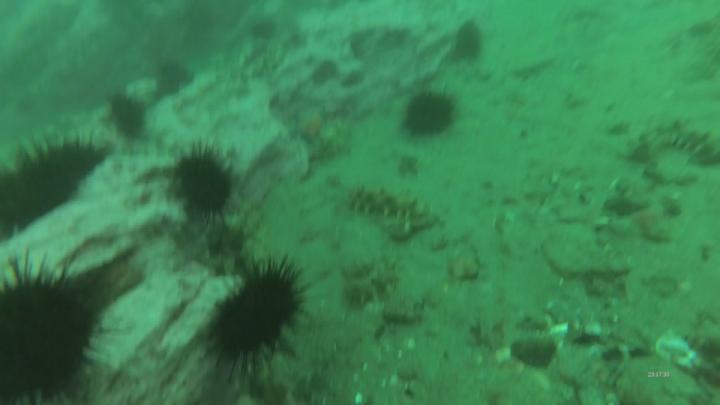echinus: (2, 254, 95, 405), (210, 261, 305, 369), (5, 134, 102, 228), (172, 145, 239, 223), (403, 86, 461, 146), (104, 88, 147, 141), (151, 57, 193, 97), (451, 16, 484, 65)
holothurian: (346, 178, 432, 227), (336, 248, 402, 309), (657, 113, 720, 170)
starfish: (293, 105, 331, 148)
